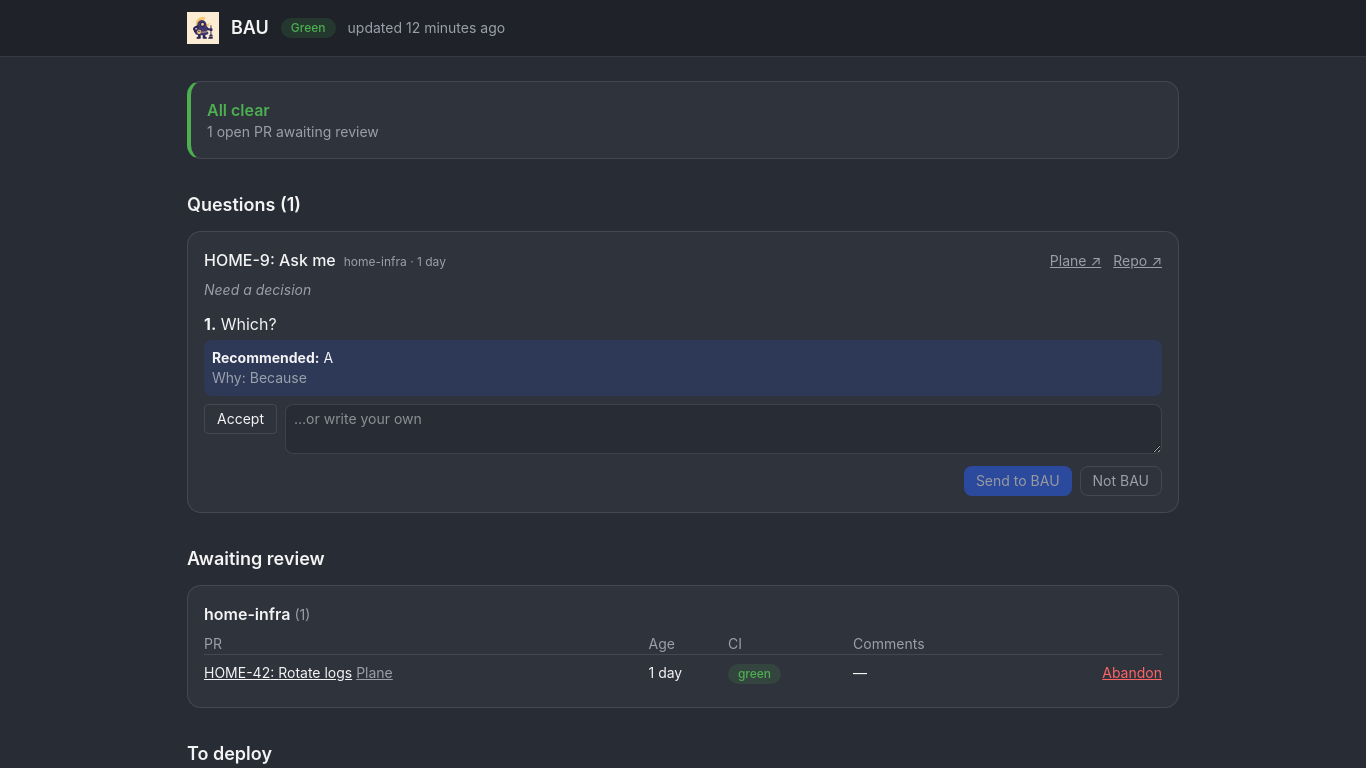
Test case: App › marks not-bau with a notice
Click the button "Not BAU".
click(1121, 481)  # box [1080, 466, 1162, 496]
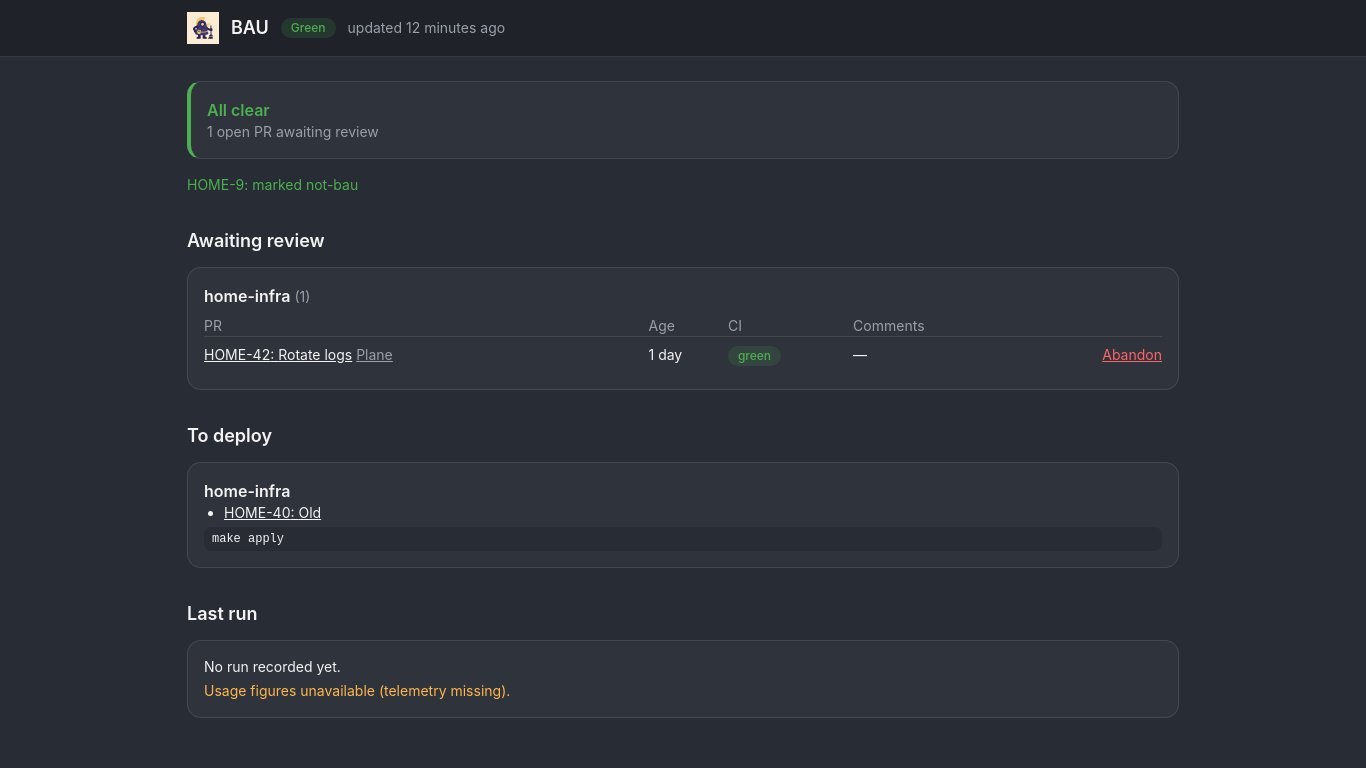
expect the list item "HOME-9: marked not-bau" is shown: met, box [187, 176, 358, 193]
